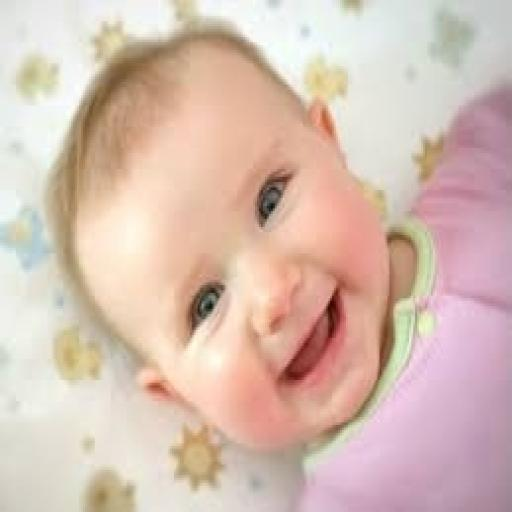laughing: (34, 10, 510, 510)
